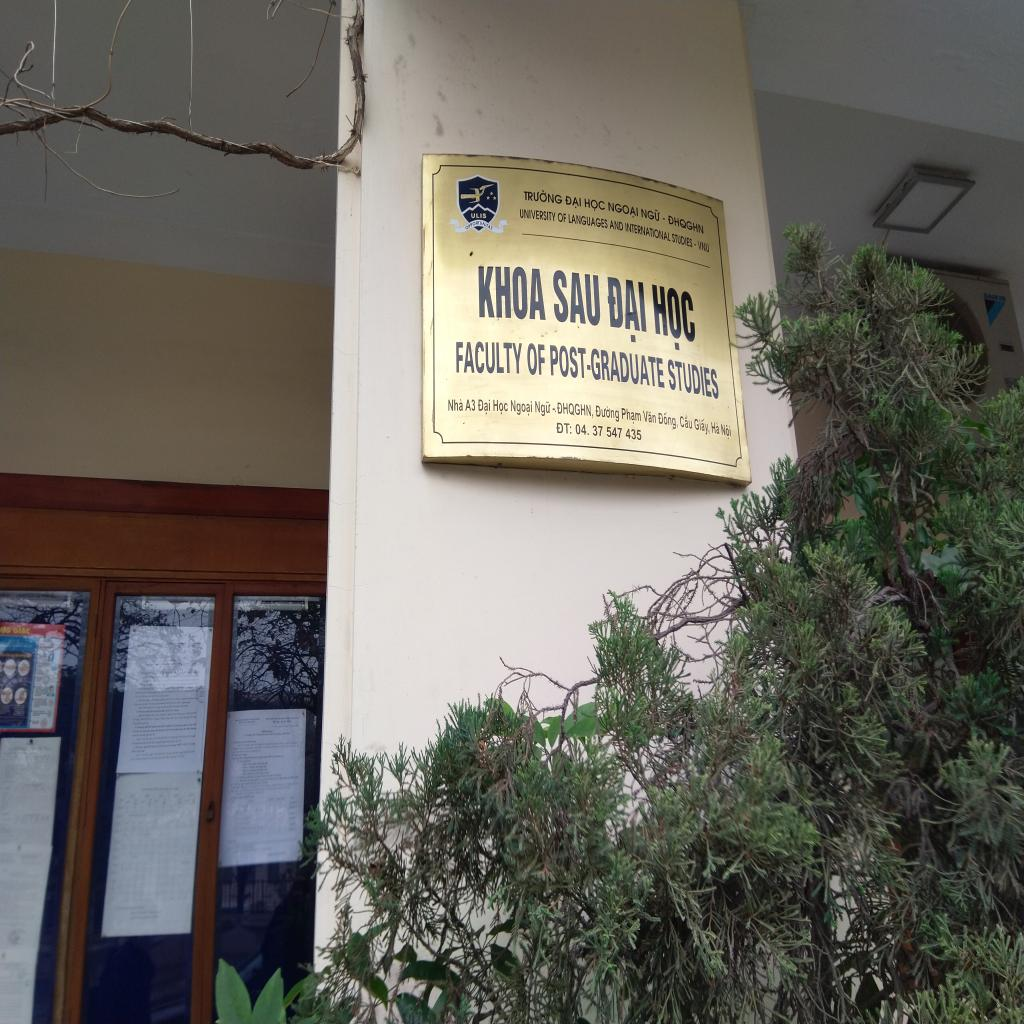text: (478, 265, 546, 320), (651, 282, 698, 354), (591, 347, 665, 389), (552, 268, 602, 328), (606, 276, 648, 345), (456, 339, 522, 374), (667, 358, 720, 401), (549, 344, 591, 379), (575, 422, 642, 442), (625, 222, 671, 242), (667, 215, 704, 234), (557, 402, 594, 420), (527, 342, 545, 376), (524, 188, 562, 204), (568, 214, 608, 229), (608, 202, 638, 220), (519, 208, 556, 222), (595, 404, 620, 423), (621, 407, 642, 426), (658, 411, 678, 430), (510, 400, 532, 416), (464, 220, 494, 231), (584, 198, 606, 213), (641, 206, 661, 222), (694, 416, 710, 436), (672, 233, 693, 248), (493, 399, 509, 416), (535, 401, 551, 417), (478, 398, 492, 415), (448, 398, 464, 412), (565, 196, 582, 209), (680, 413, 693, 430), (555, 422, 572, 435), (12, 626, 31, 637), (721, 423, 732, 441), (643, 410, 657, 424), (610, 220, 624, 232), (697, 240, 709, 253), (464, 399, 476, 412), (711, 420, 720, 436), (557, 212, 567, 224), (470, 212, 487, 219), (0, 626, 12, 634)
